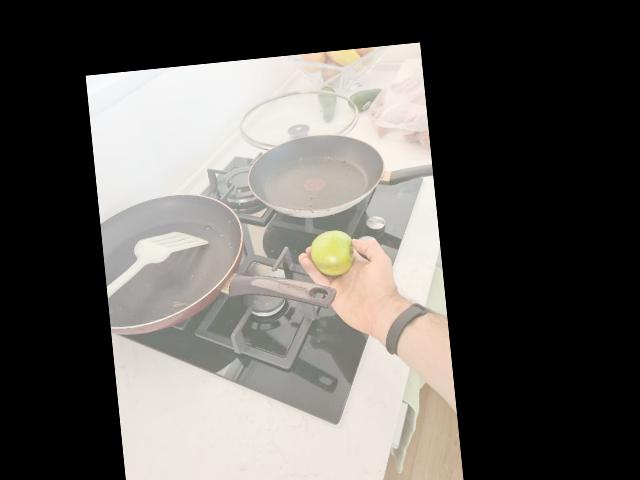apple: (308, 230, 356, 277)
